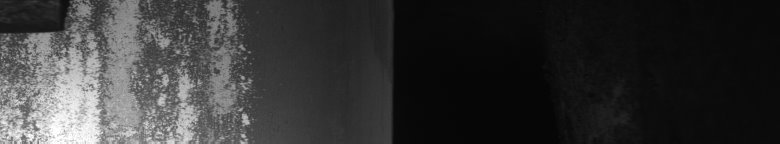kb: (4, 4, 254, 136)
